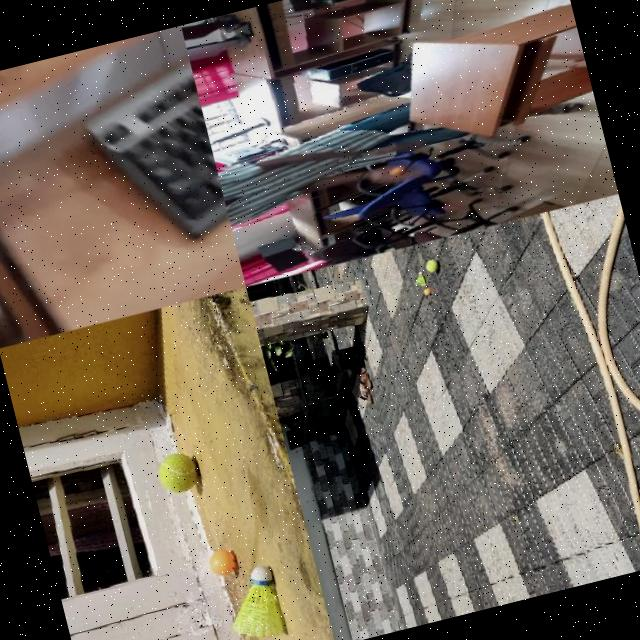ping-pong-ball: (205, 546, 238, 578), (387, 166, 404, 176), (422, 289, 429, 296)
